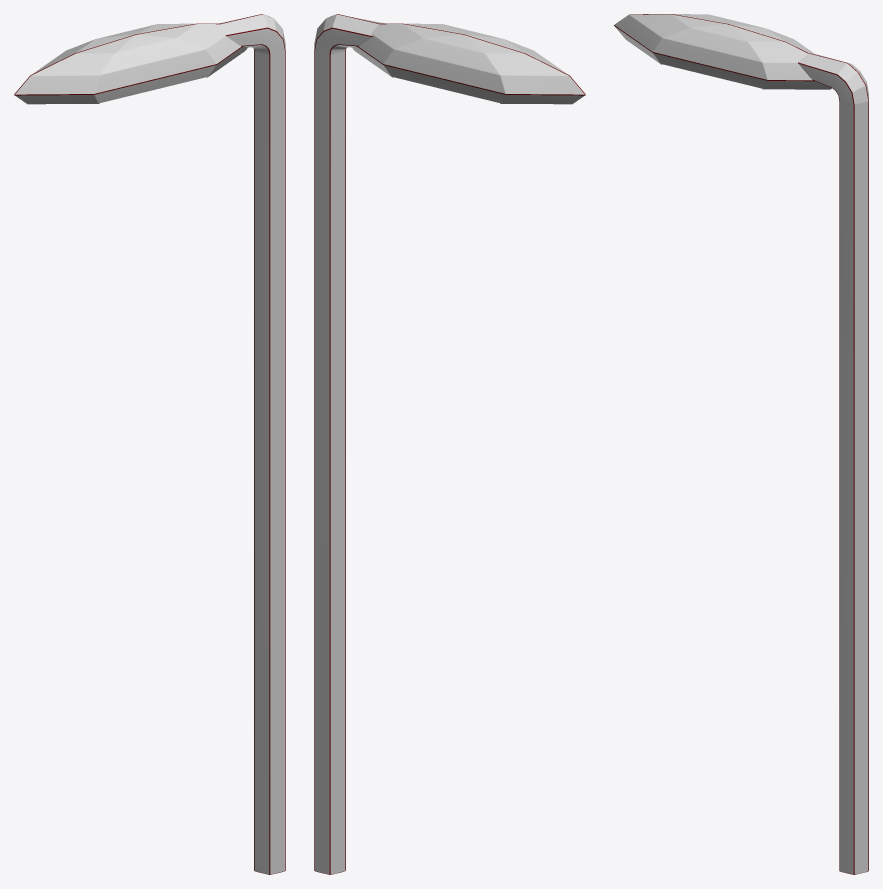
The model's file is Lamp.fbx.
The picture shows the model from 3 angles, left to right: view 1: azimuth 30°, elevation 25°; view 2: azimuth 150°, elevation 25°; view 3: azimuth 330°, elevation 25°; orthographic projection. The views are drawn at different scales.
Parts seen in each view (by area): view 1: pCylinder2; view 2: pCylinder2; view 3: pCylinder2.
Boxes of the visible parts, bbox=[...] form: pCylinder2: bbox=[14, 14, 285, 874]; pCylinder2: bbox=[314, 14, 585, 874]; pCylinder2: bbox=[614, 14, 868, 874].
Size of the model in its own units: 1201 by 3668 by 299.
